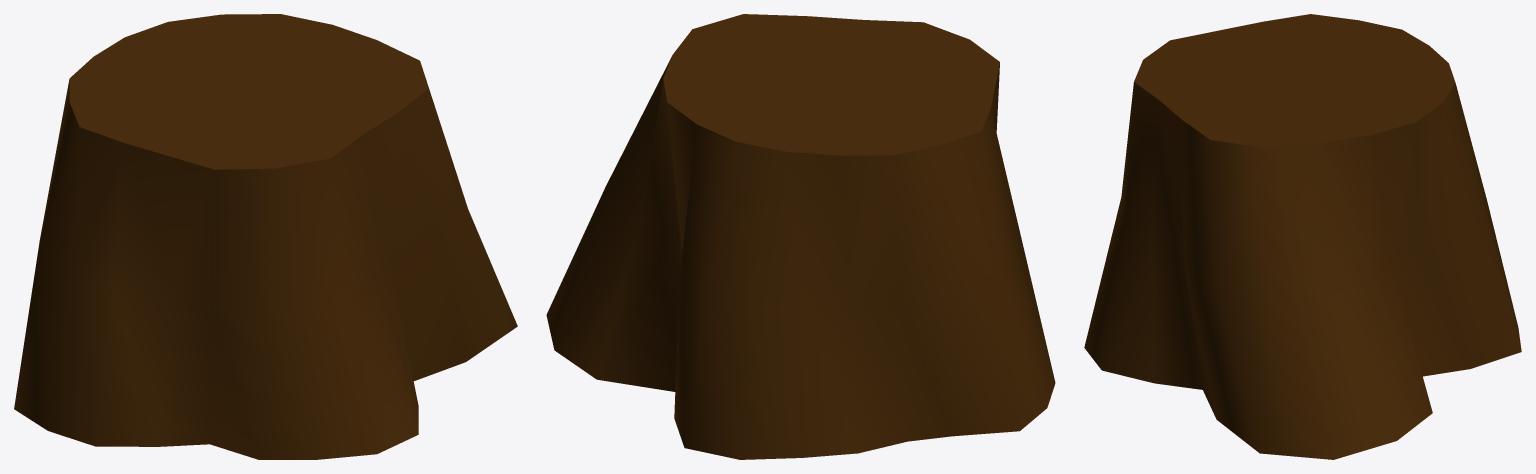
Rendered from treetrunk.fbx.
3 views of the same model, side by side, from view 1: azimuth 30°, elevation 25°; view 2: azimuth 150°, elevation 25°; view 3: azimuth 270°, elevation 25° (orthographic). The views are drawn at different scales.
Visible parts, largest first — view 1: Foliage001; view 2: Foliage001; view 3: Foliage001.
Boxes of the visible parts, x1,y1,x2,y2 form: Foliage001: (14,14,517,459); Foliage001: (546,14,1055,459); Foliage001: (1084,14,1521,459).
Bounding box in the file's own units: 45 × 25.89 × 38.98.
